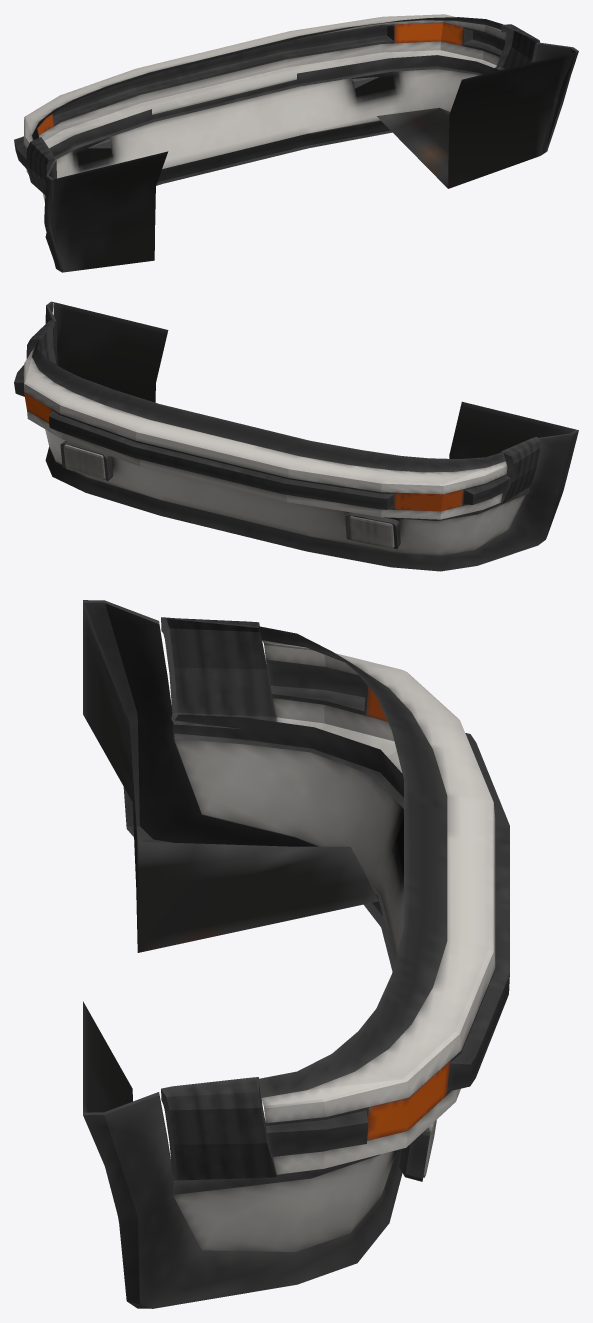
File: vehicle_boltz_930turbo_FrontBumperWM.fbx
The picture shows the model from 3 angles, top to bottom: view 1: azimuth 30°, elevation 25°; view 2: azimuth 150°, elevation 25°; view 3: azimuth 270°, elevation 25°; orthographic projection. The views are drawn at different scales.
Visible parts, largest first — view 1: boltz_930turbo_FrontBumper.002; view 2: boltz_930turbo_FrontBumper.002; view 3: boltz_930turbo_FrontBumper.002.
Boxes of the visible parts, bbox=[...] form: boltz_930turbo_FrontBumper.002: bbox=[14, 14, 578, 272]; boltz_930turbo_FrontBumper.002: bbox=[14, 301, 578, 571]; boltz_930turbo_FrontBumper.002: bbox=[83, 600, 509, 1308].
Bounding box in the file's own units: 2.09 × 0.4621 × 0.7333.
